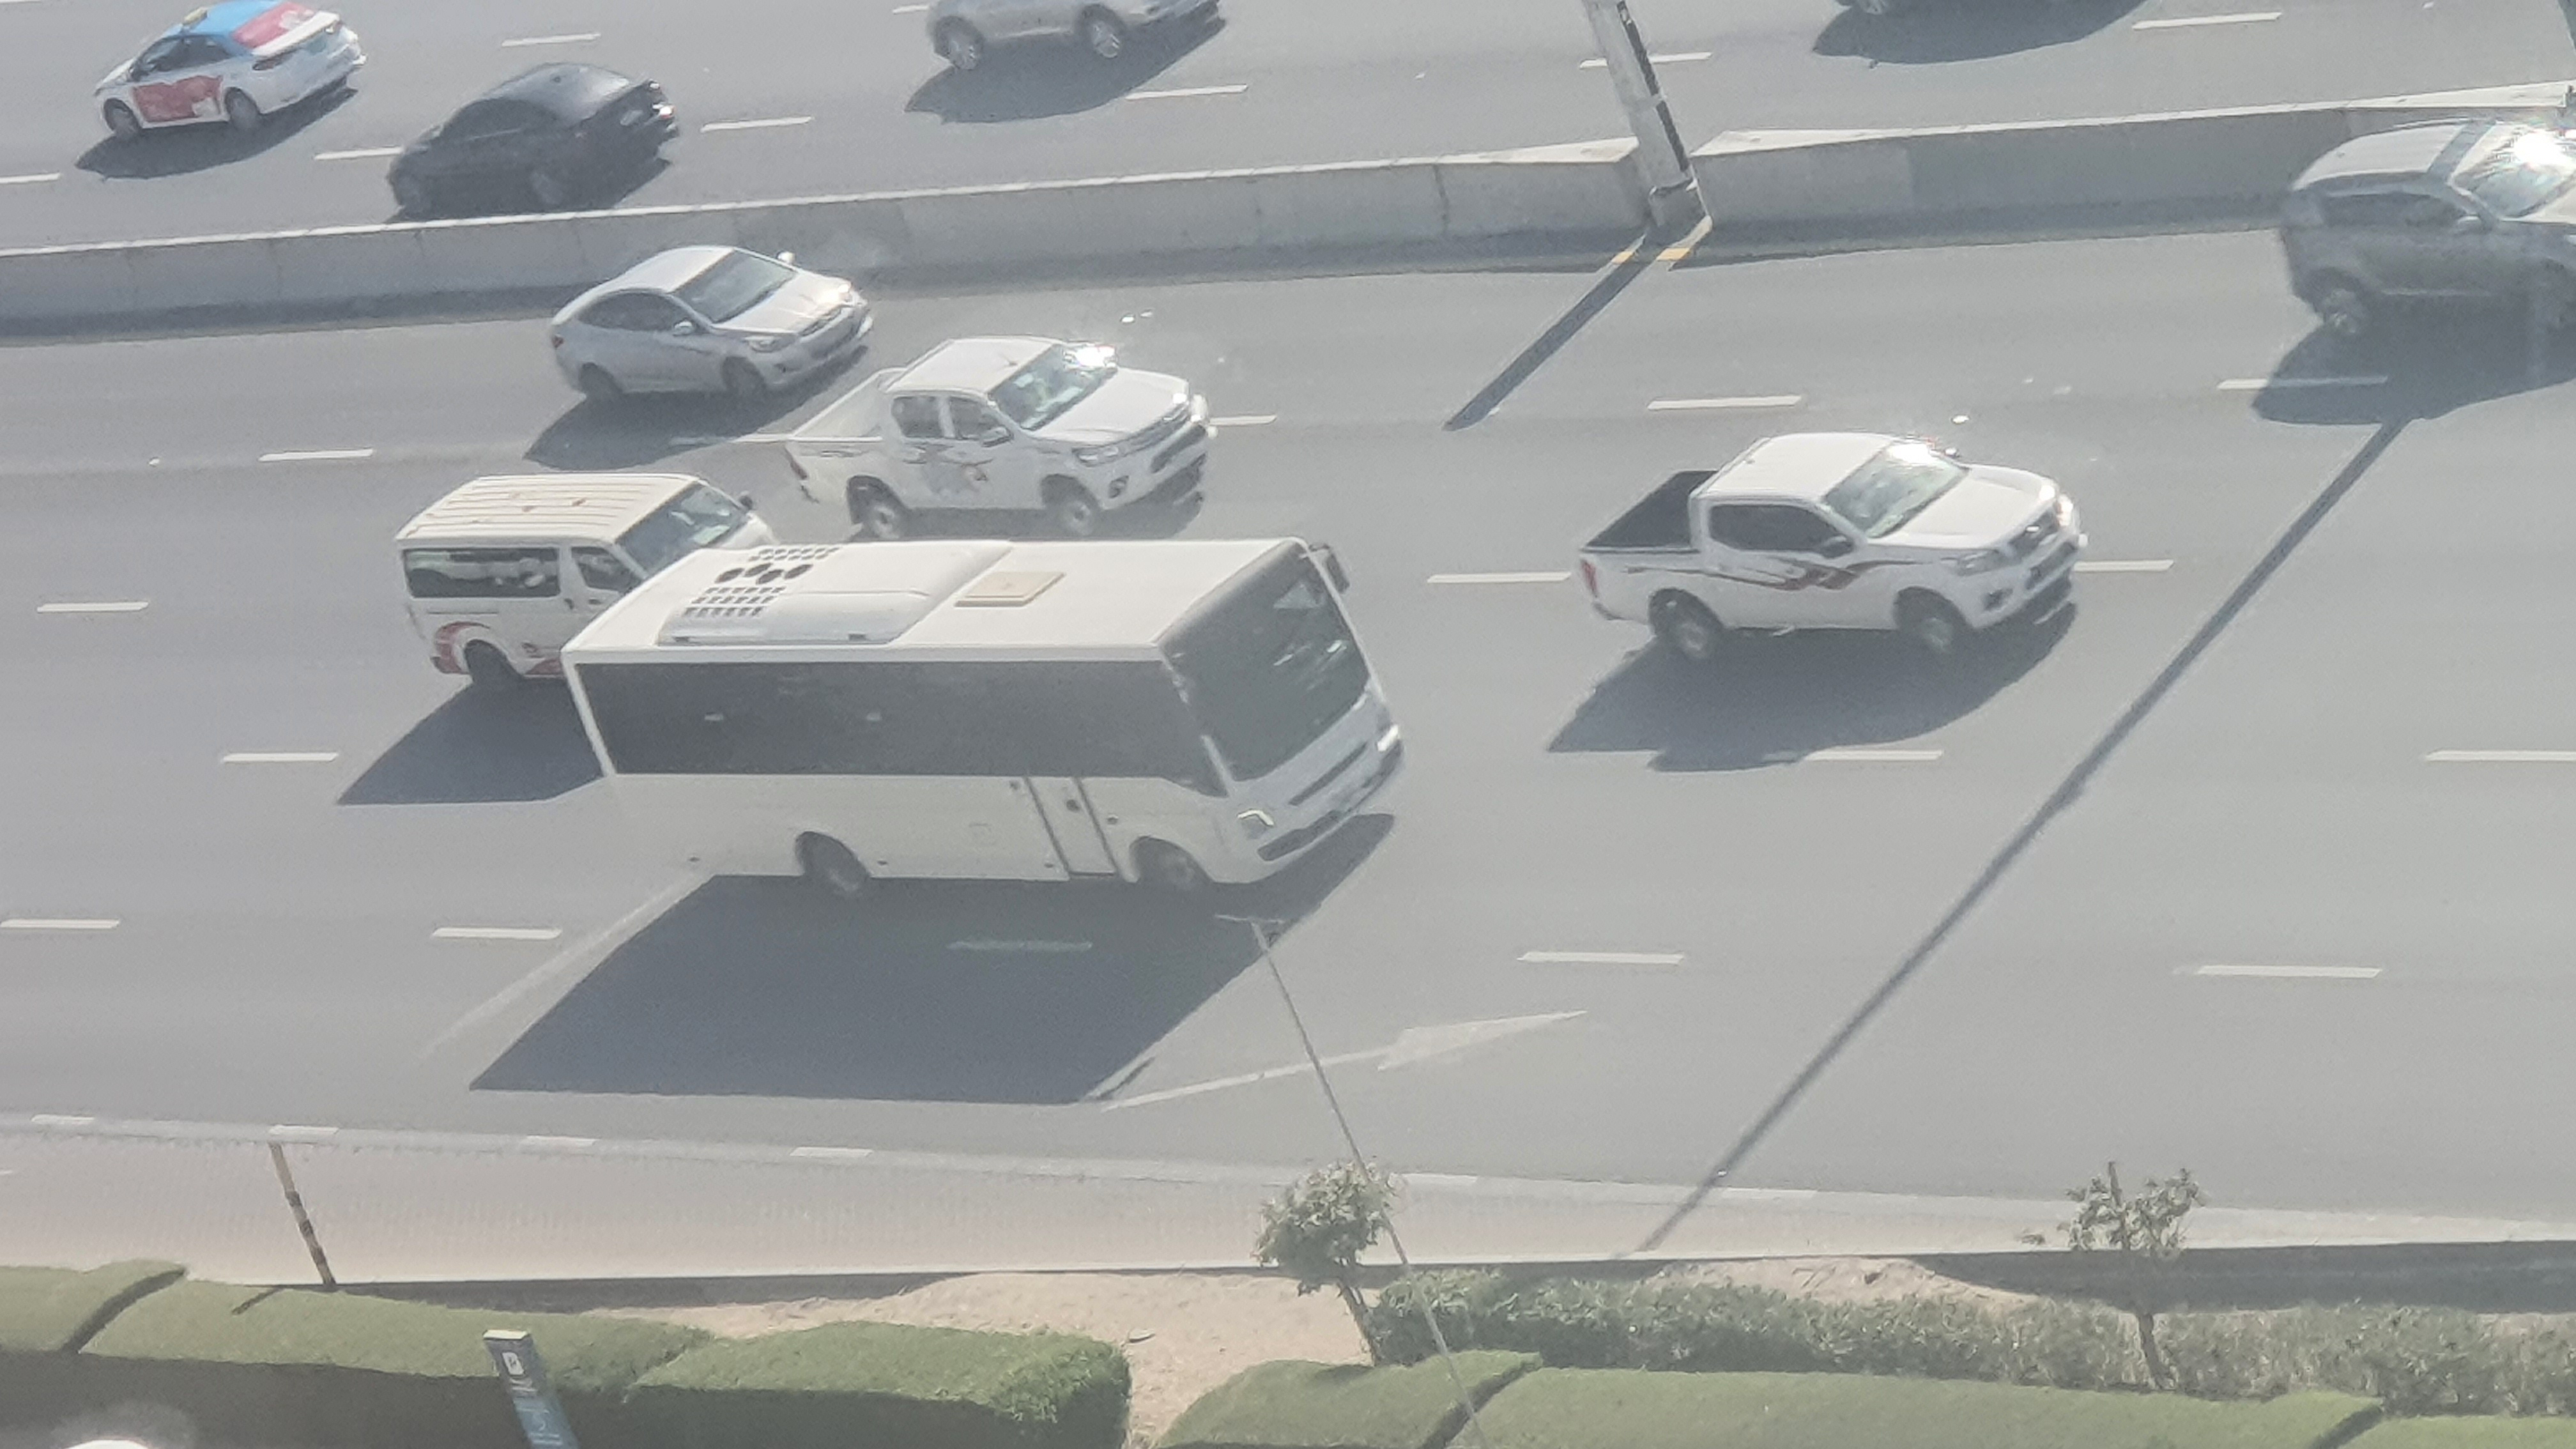NotSunroof: (2266, 117, 2576, 357), (543, 248, 862, 416)
